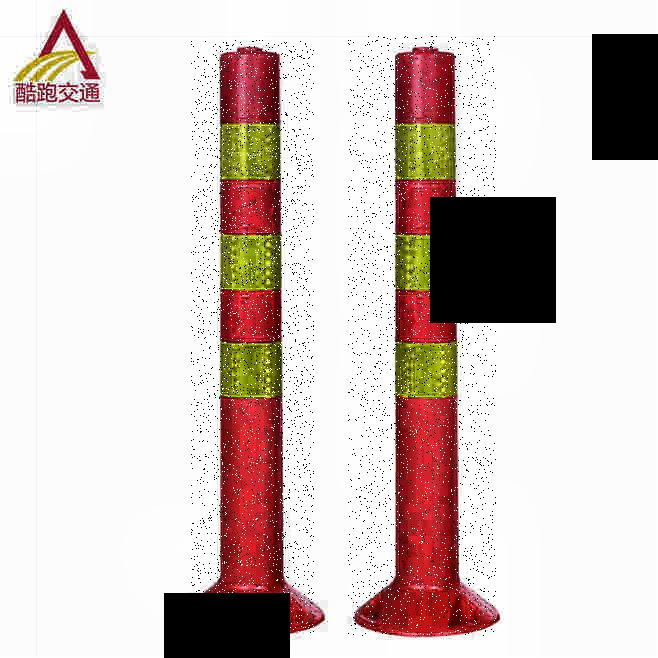bench: (348, 36, 497, 637), (191, 40, 315, 634)
